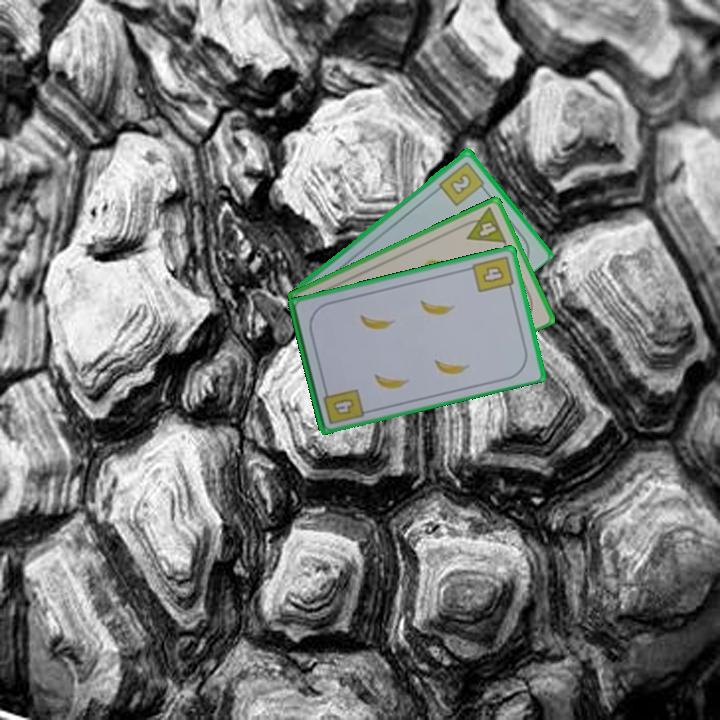2b: (435, 158, 489, 208)
4b: (319, 383, 366, 427), (469, 252, 516, 295)
4p: (458, 204, 509, 246)
